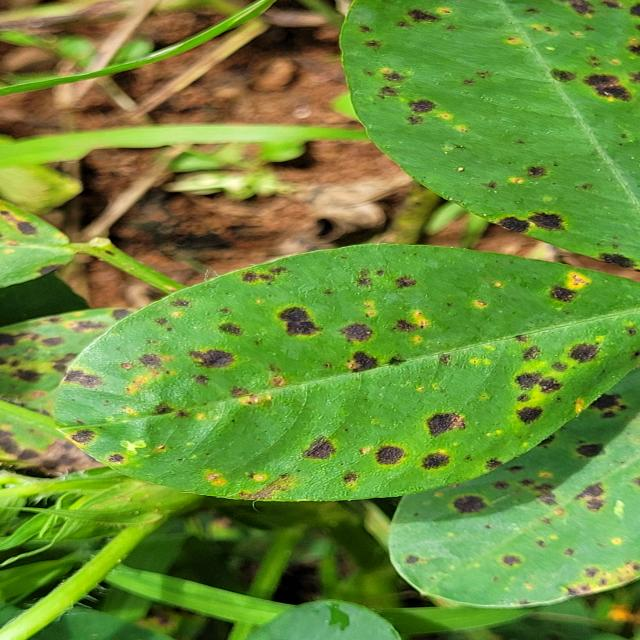Ground nut_tikka leaf spot: (43, 237, 639, 504)
